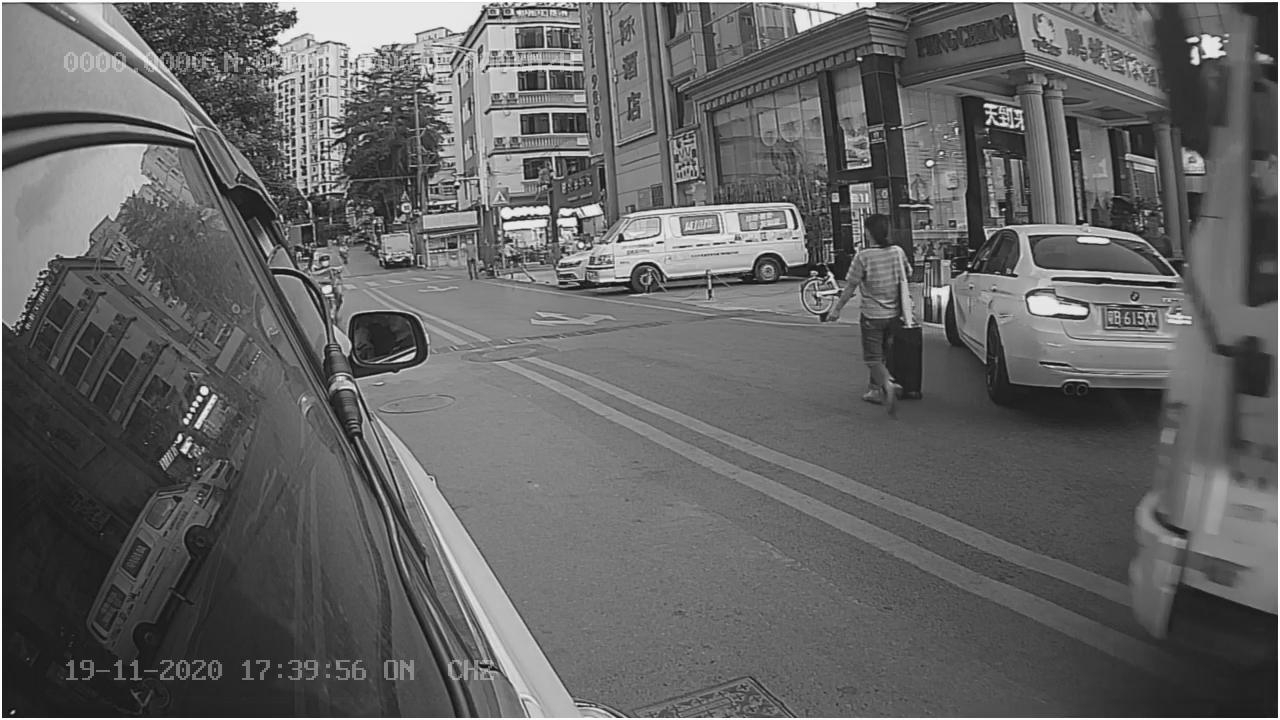person: (820, 214, 924, 420)
